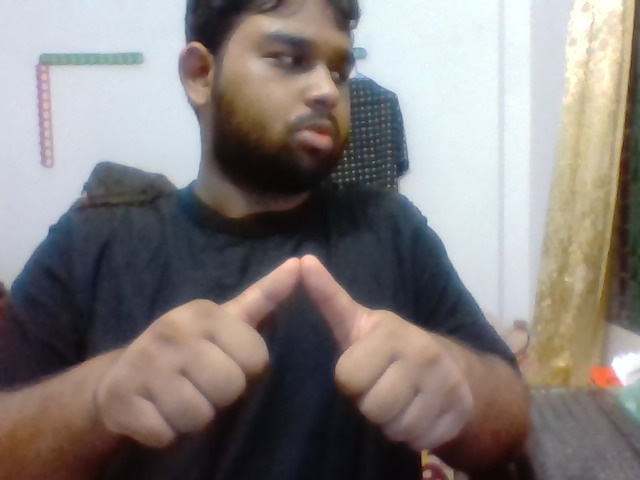A: (110, 243, 488, 459)
